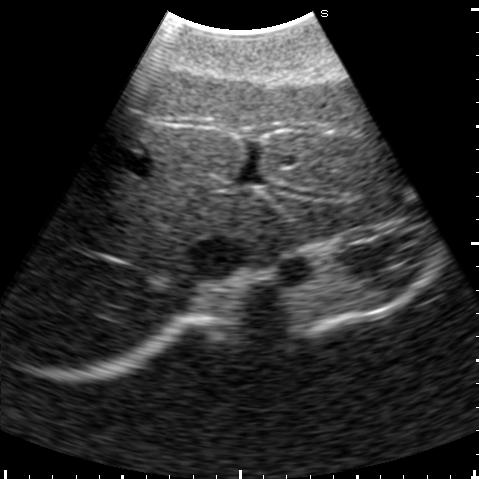IVC: (186, 236, 246, 282)
S1: (229, 194, 296, 264)
S2: (266, 187, 428, 241)
S3: (246, 76, 409, 194)
